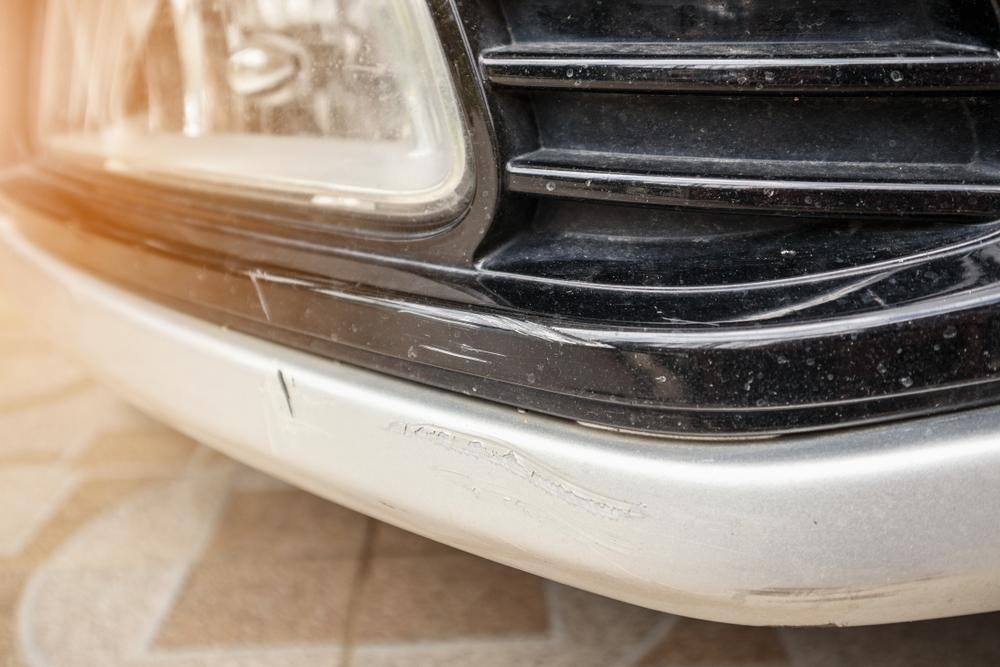scratch: (385, 416, 664, 548), (370, 293, 745, 365), (735, 569, 963, 612)
